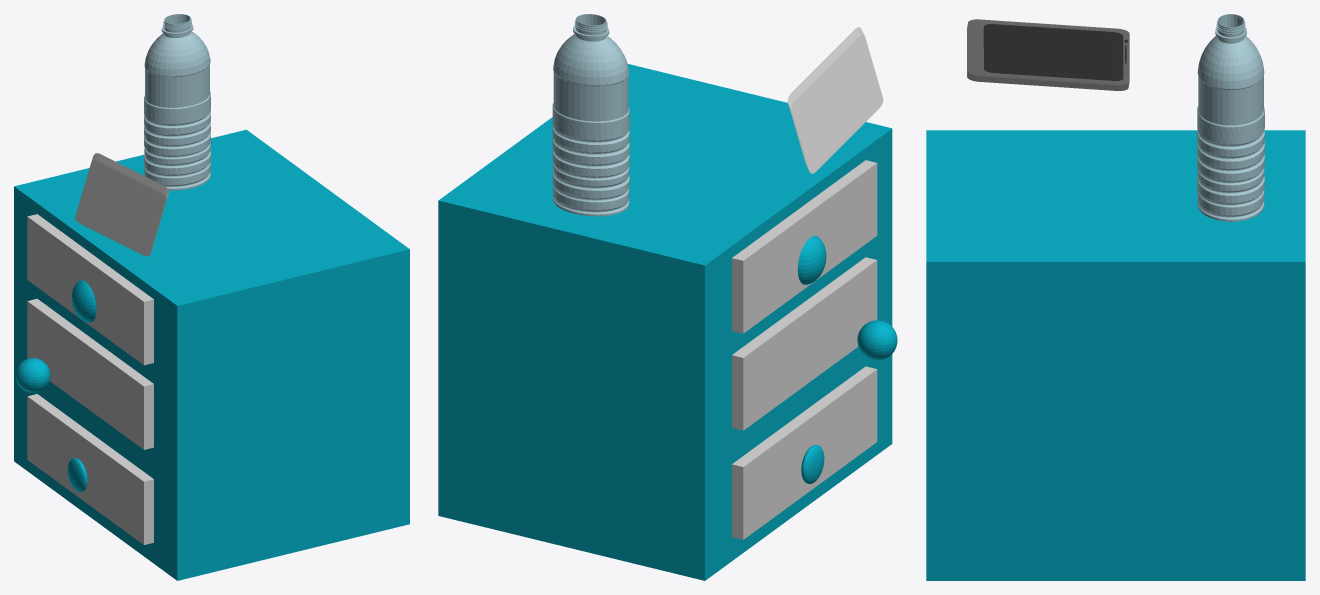
Rendered from Cupboard.glb.
3 renders of one model, left to right at view 1: azimuth 30°, elevation 25°; view 2: azimuth 150°, elevation 25°; view 3: azimuth 270°, elevation 25°, orthographic. The views are drawn at different scales.
Visible parts, largest first — view 1: Mesh_Mesh_head_geo.001_lambert2SG.001; view 2: Mesh_Mesh_head_geo.001_lambert2SG.001; view 3: Mesh_Mesh_head_geo.001_lambert2SG.001.
Part boxes in pixels (<box>): Mesh_Mesh_head_geo.001_lambert2SG.001: <box>14,14,409,580</box>; Mesh_Mesh_head_geo.001_lambert2SG.001: <box>438,14,897,580</box>; Mesh_Mesh_head_geo.001_lambert2SG.001: <box>926,14,1305,580</box>.
Bounding box in the file's own units: 31 × 41 × 28.
